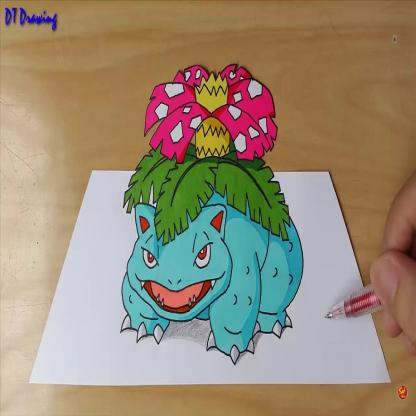Venusaur: (113, 51, 312, 384)
